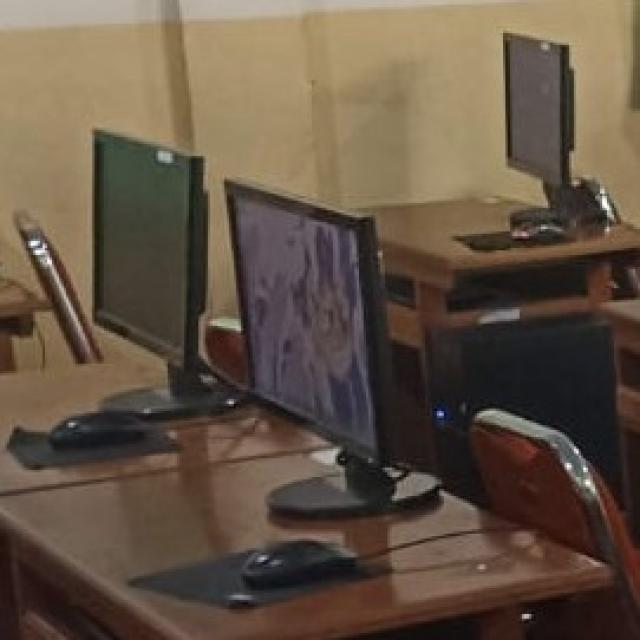offscreen: (95, 133, 204, 392), (506, 34, 574, 186)
onscreen: (227, 181, 385, 458)
